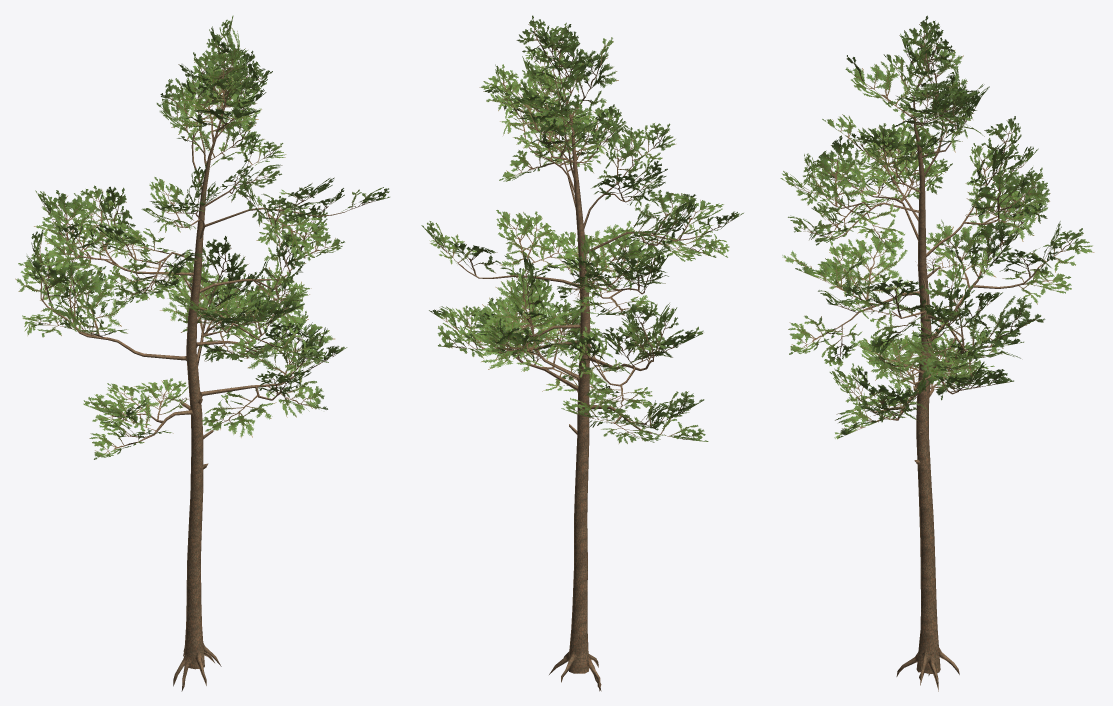
The picture shows the model from 3 angles, left to right: view 1: azimuth 30°, elevation 25°; view 2: azimuth 150°, elevation 25°; view 3: azimuth 270°, elevation 25°; orthographic projection. The views are drawn at different scales.
Visible parts, largest first — view 1: Pine_big_3_LOD1_Bark_Mat_0; view 2: Pine_big_3_LOD1_Bark_Mat_0; view 3: Pine_big_3_LOD1_Bark_Mat_0.
Boxes of the visible parts, box(x1,y1,x2,y2) form: Pine_big_3_LOD1_Bark_Mat_0: box(15, 15, 389, 691); Pine_big_3_LOD1_Bark_Mat_0: box(421, 15, 743, 691); Pine_big_3_LOD1_Bark_Mat_0: box(780, 15, 1094, 691).
Size of the model in its own units: 8.83 by 19.57 by 8.36.
